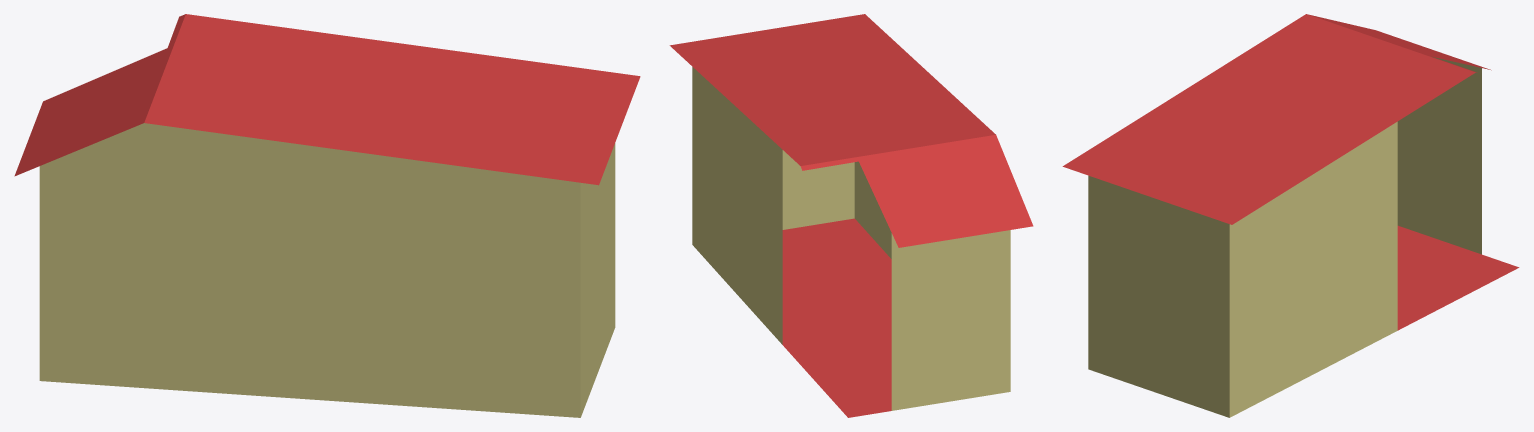
The picture shows the model from 3 angles, left to right: view 1: azimuth 30°, elevation 25°; view 2: azimuth 150°, elevation 25°; view 3: azimuth 270°, elevation 25°; orthographic projection. The views are drawn at different scales.
Parts seen in each view (by area): view 1: group_5, group_3, group_4; view 2: group_5, group_3, group_6, group_4; view 3: group_5, group_3, group_6.
Boxes of the visible parts, x1=… form: group_5: x1=39, y1=123, x2=615, y2=417; group_3: x1=14, y1=14, x2=640, y2=185; group_4: x1=15, y1=15, x2=184, y2=175; group_5: x1=692, y1=67, x2=1010, y2=410; group_3: x1=669, y1=14, x2=1033, y2=247; group_6: x1=782, y1=218, x2=891, y2=417; group_4: x1=803, y1=140, x2=1031, y2=245; group_5: x1=1088, y1=57, x2=1481, y2=417; group_3: x1=1062, y1=14, x2=1491, y2=224; group_6: x1=1397, y1=225, x2=1519, y2=330.
Bounding box in the file's own units: 14.17 × 12.39 × 6.88.
